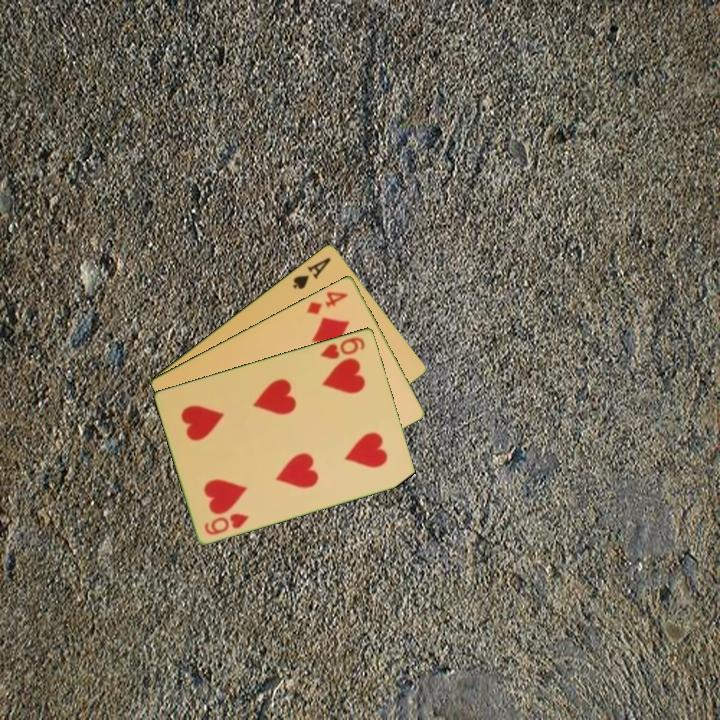4d: (303, 287, 351, 317)
6h: (317, 333, 368, 362), (201, 509, 252, 538)
As: (289, 253, 334, 292)
